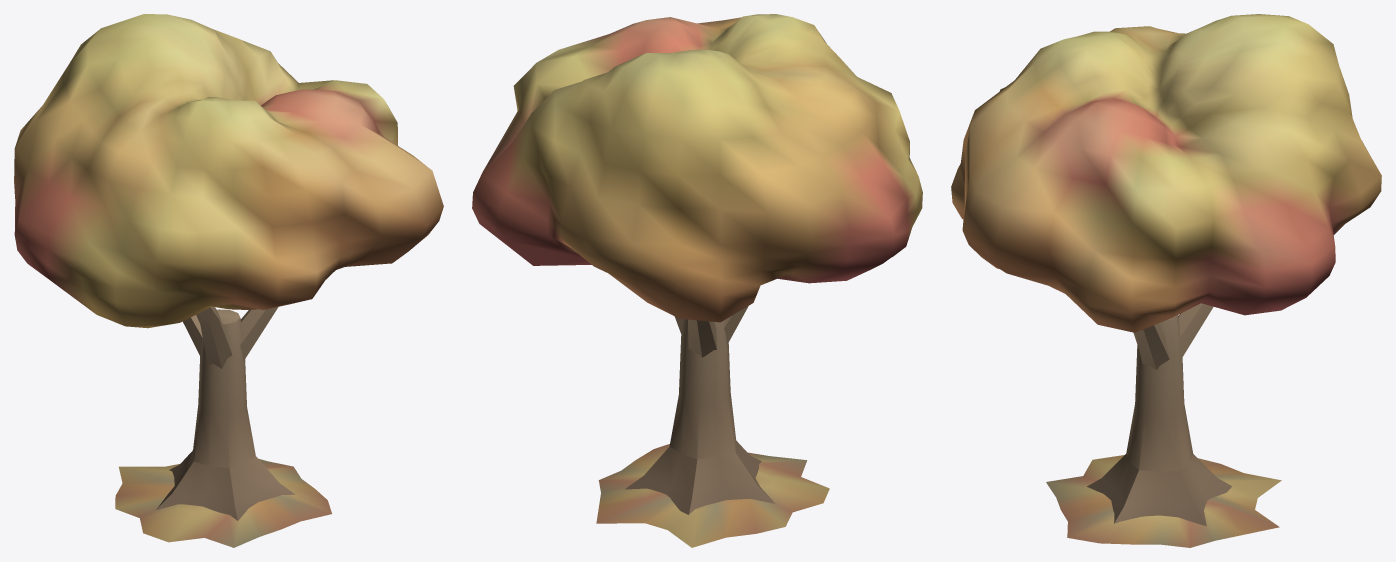
The model's file is autumn_a.glb.
The picture shows the model from 3 angles, left to right: view 1: azimuth 30°, elevation 25°; view 2: azimuth 150°, elevation 25°; view 3: azimuth 270°, elevation 25°; orthographic projection. The views are drawn at different scales.
Parts seen in each view (by area): view 1: autumn_a; view 2: autumn_a; view 3: autumn_a.
Part boxes in pixels (box(x1,y1,x2,y2)): autumn_a: box(14, 14, 443, 547); autumn_a: box(472, 14, 922, 547); autumn_a: box(951, 14, 1381, 547).
Size of the model in its own units: 19.26 by 22.11 by 18.3.
